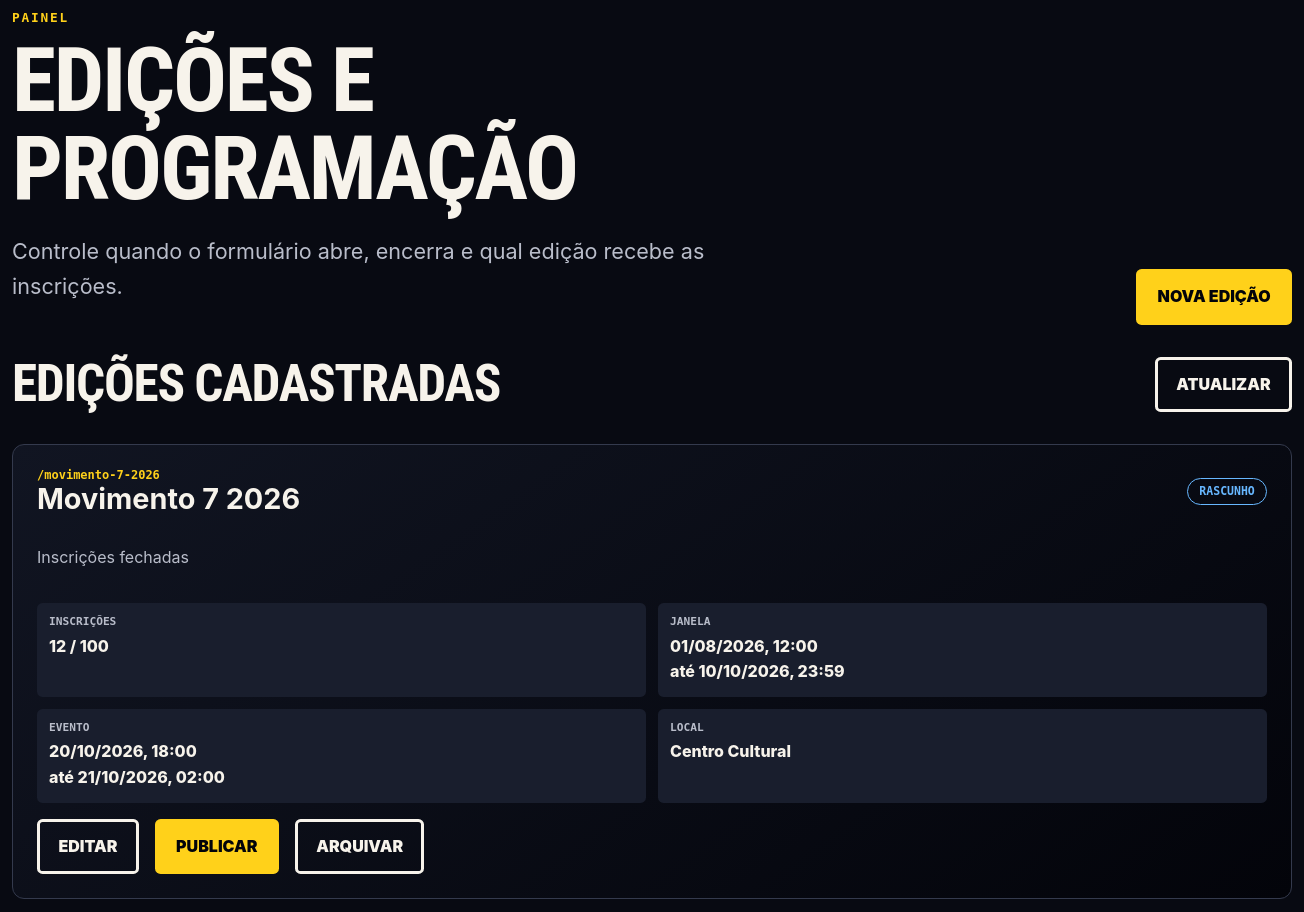
edições administrativas › lista a programação e publica com CSRF
Check: the heading "Movimento 7 2026" is shown, box [37, 485, 300, 514]
Check: the text "12 / 100" is shown, box [49, 636, 109, 656]
Click the button "PUBLICAR". click: (217, 846)
box: [155, 819, 279, 874]
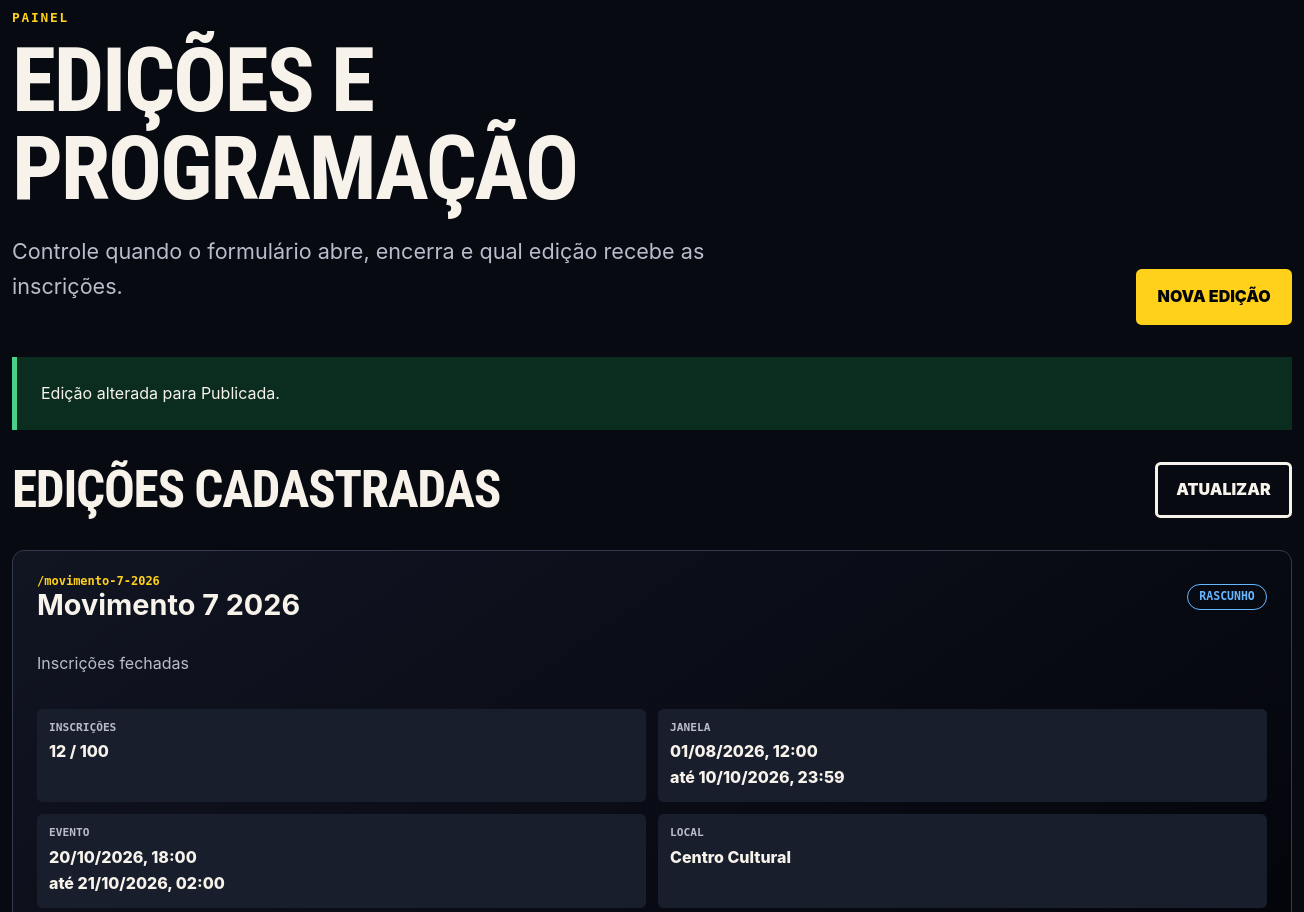
Check: the text "Edição alterada para Publicada." is shown, box [12, 357, 1292, 430]
